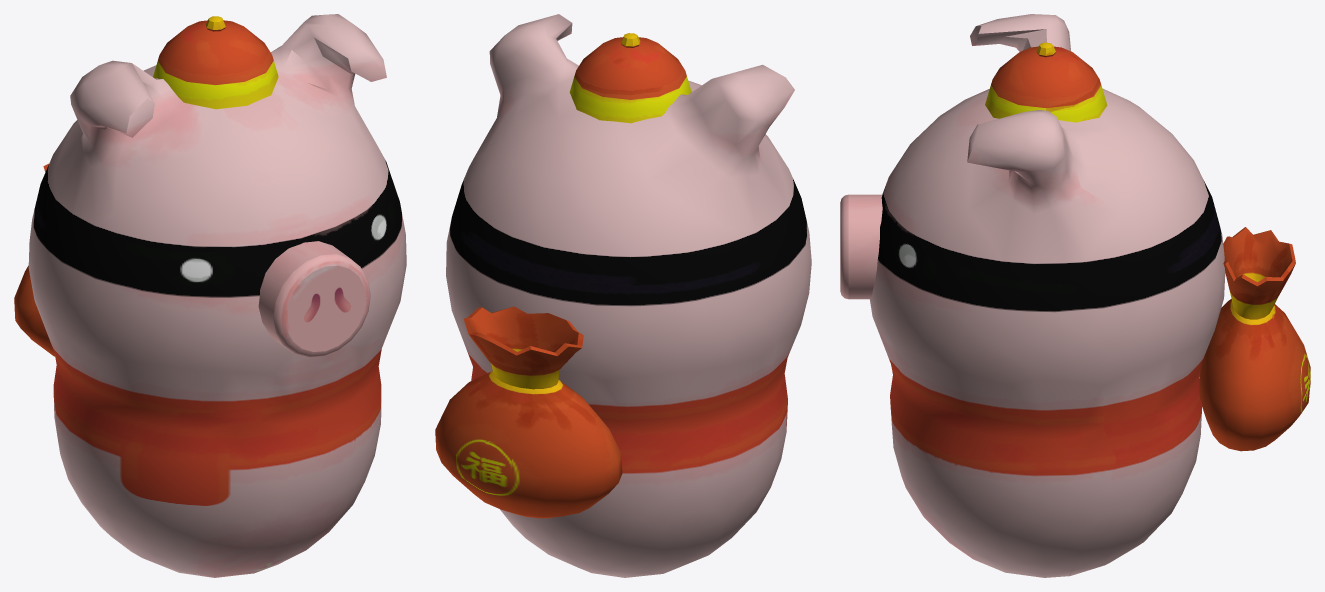
Rendered from pig.glb.
3 renders of one model, left to right at view 1: azimuth 30°, elevation 25°; view 2: azimuth 150°, elevation 25°; view 3: azimuth 270°, elevation 25°, orthographic. The views are drawn at different scales.
Parts seen in each view (by area): view 1: pig; view 2: pig; view 3: pig.
Part boxes in pixels (x1,y1,x2,y2): pig: (14, 14, 406, 577); pig: (435, 14, 811, 577); pig: (840, 14, 1310, 577).
Size of the model in its own units: 1.36 by 2.17 by 1.78.
Materials: 1 (1 with a texture image).
